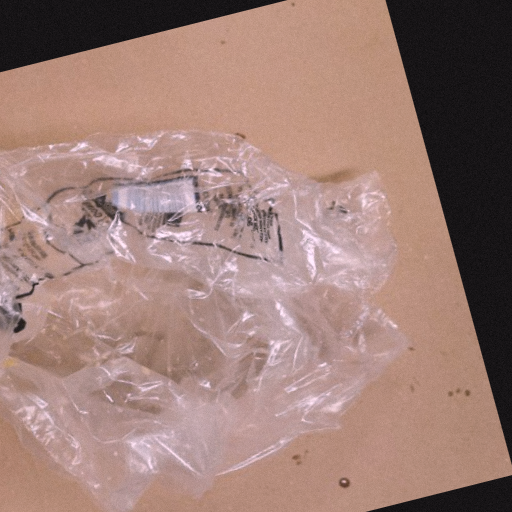vinyl_s: (1, 129, 406, 501)
